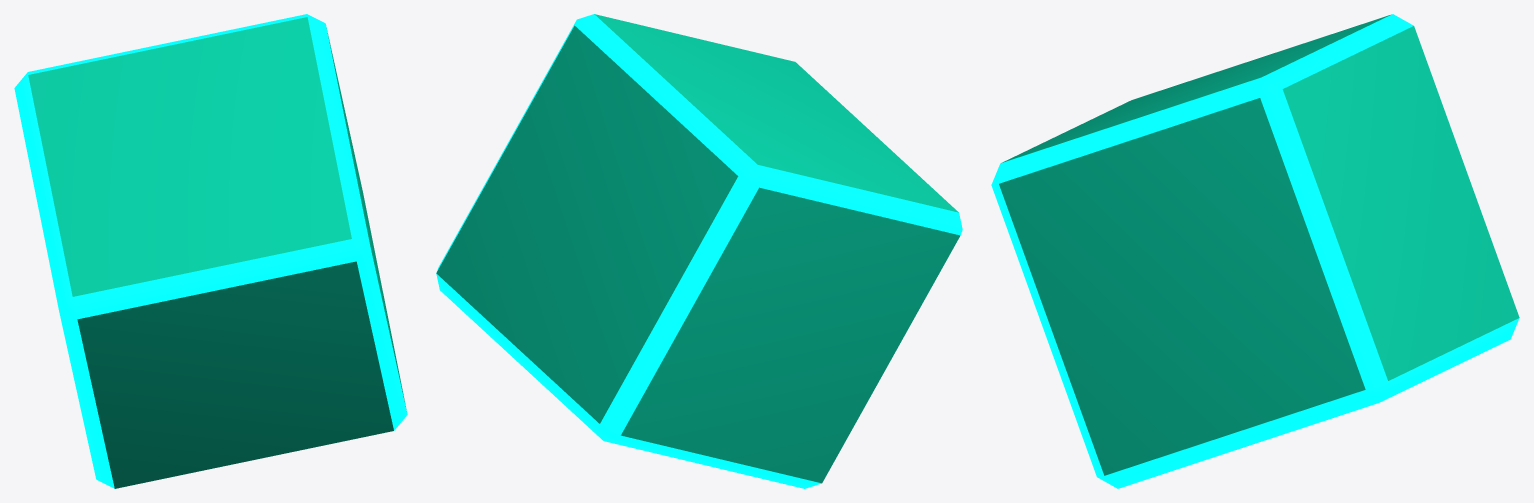
Rendered from pn_ico_enlace.glb.
3 views of the same model, side by side, from view 1: azimuth 30°, elevation 25°; view 2: azimuth 150°, elevation 25°; view 3: azimuth 270°, elevation 25° (orthographic). The views are drawn at different scales.
Visible parts, largest first — view 1: pn_ico_enlace; view 2: pn_ico_enlace; view 3: pn_ico_enlace.
Part boxes in pixels (x1=…): pn_ico_enlace: x1=14, y1=14, x2=407, y2=488; pn_ico_enlace: x1=436, y1=14, x2=962, y2=488; pn_ico_enlace: x1=991, y1=14, x2=1519, y2=488.
Bounding box in the file's own units: 0.18 × 0.1766 × 0.1863.
